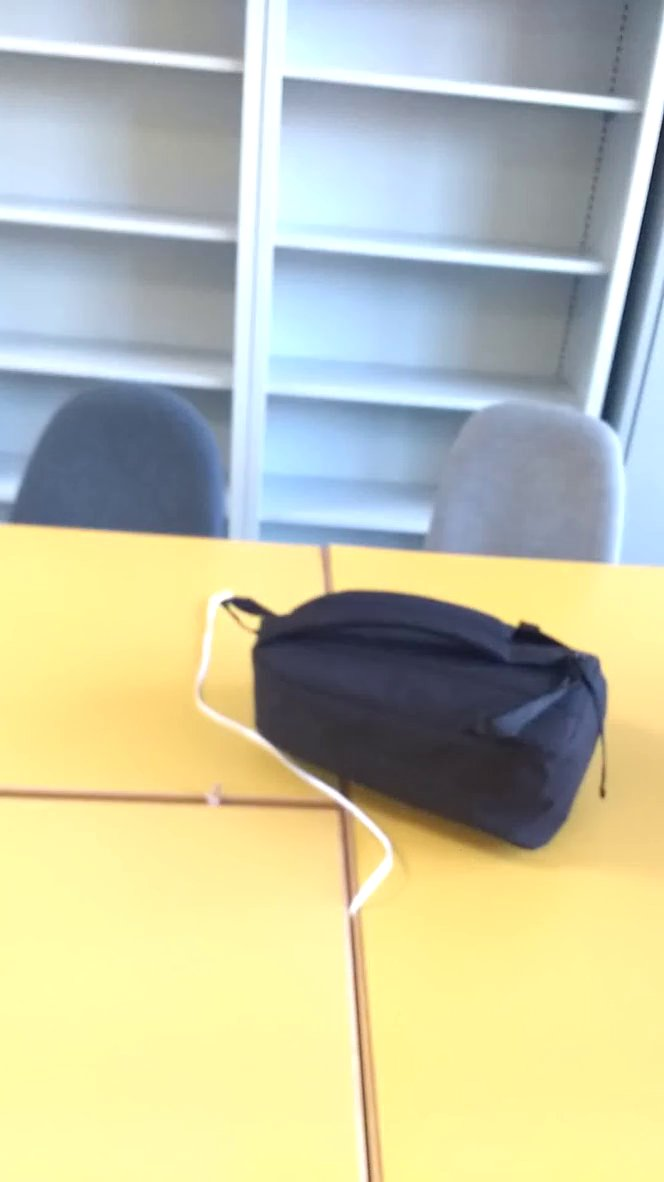bag: (220, 572, 622, 863)
chair: (403, 386, 643, 583), (4, 375, 255, 544)
